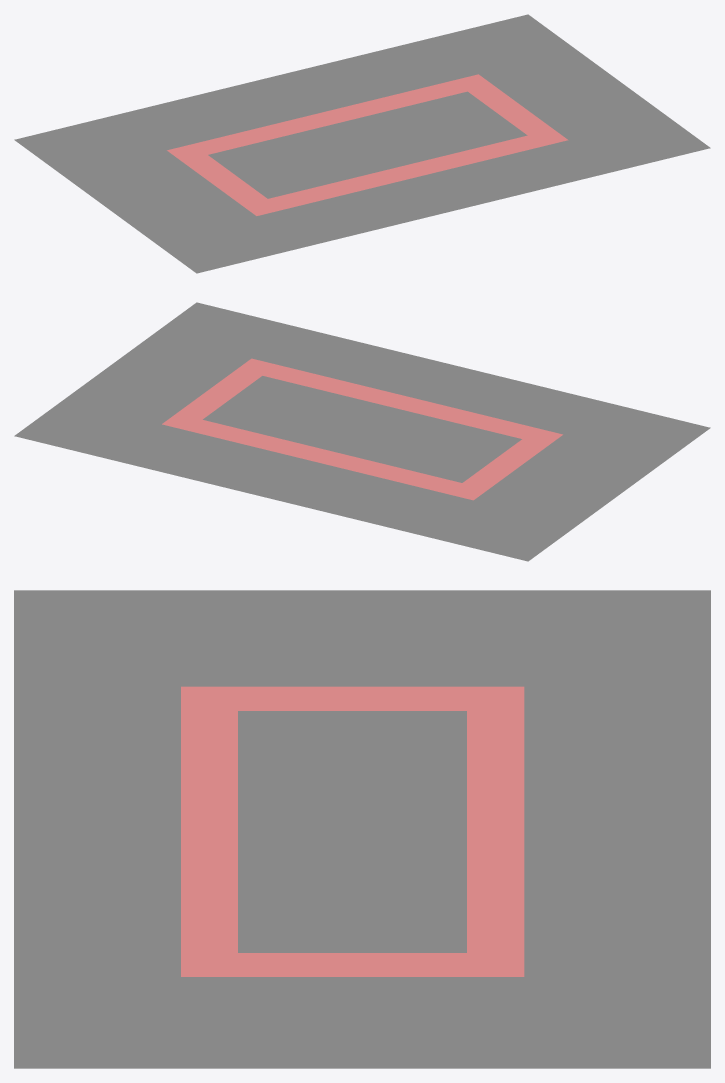
File: S_Envi_Fyz_Building_41b.gltf
The picture shows the model from 3 angles, top to bottom: view 1: azimuth 30°, elevation 25°; view 2: azimuth 150°, elevation 25°; view 3: azimuth 270°, elevation 25°; orthographic projection. The views are drawn at different scales.
Parts seen in each view (by area): view 1: S_Envi_Fyz_Building_41b; view 2: S_Envi_Fyz_Building_41b; view 3: S_Envi_Fyz_Building_41b.
Part boxes in pixels (x1,y1,x2,y2): S_Envi_Fyz_Building_41b: (14, 14, 710, 273); S_Envi_Fyz_Building_41b: (14, 302, 710, 561); S_Envi_Fyz_Building_41b: (14, 590, 710, 1068).
Size of the model in its own units: 12.53 by 4.72e-16 by 7.71.
